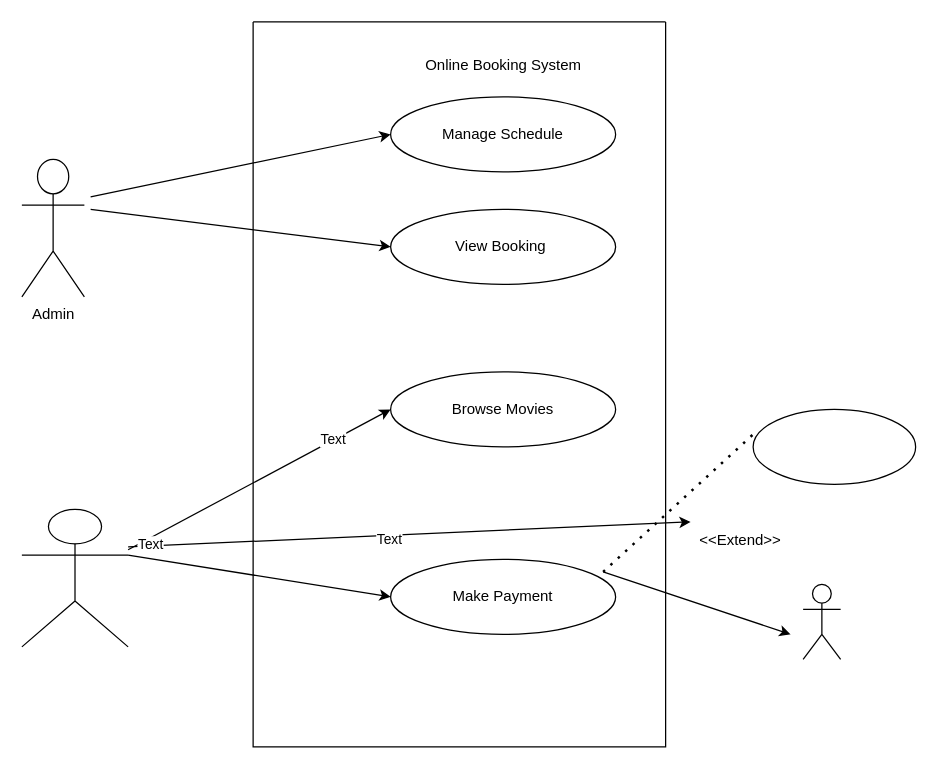
Some shapes in this 938 by 769 pixel diagram are drawn without their labels. The shapes that lost their labels are listed below. From the top down, each one's centre as x and y in pixels, then its label:
pixel 834 446: Book Ticket
pixel 74 577: Customer
pixel 821 621: Payement Gateway
